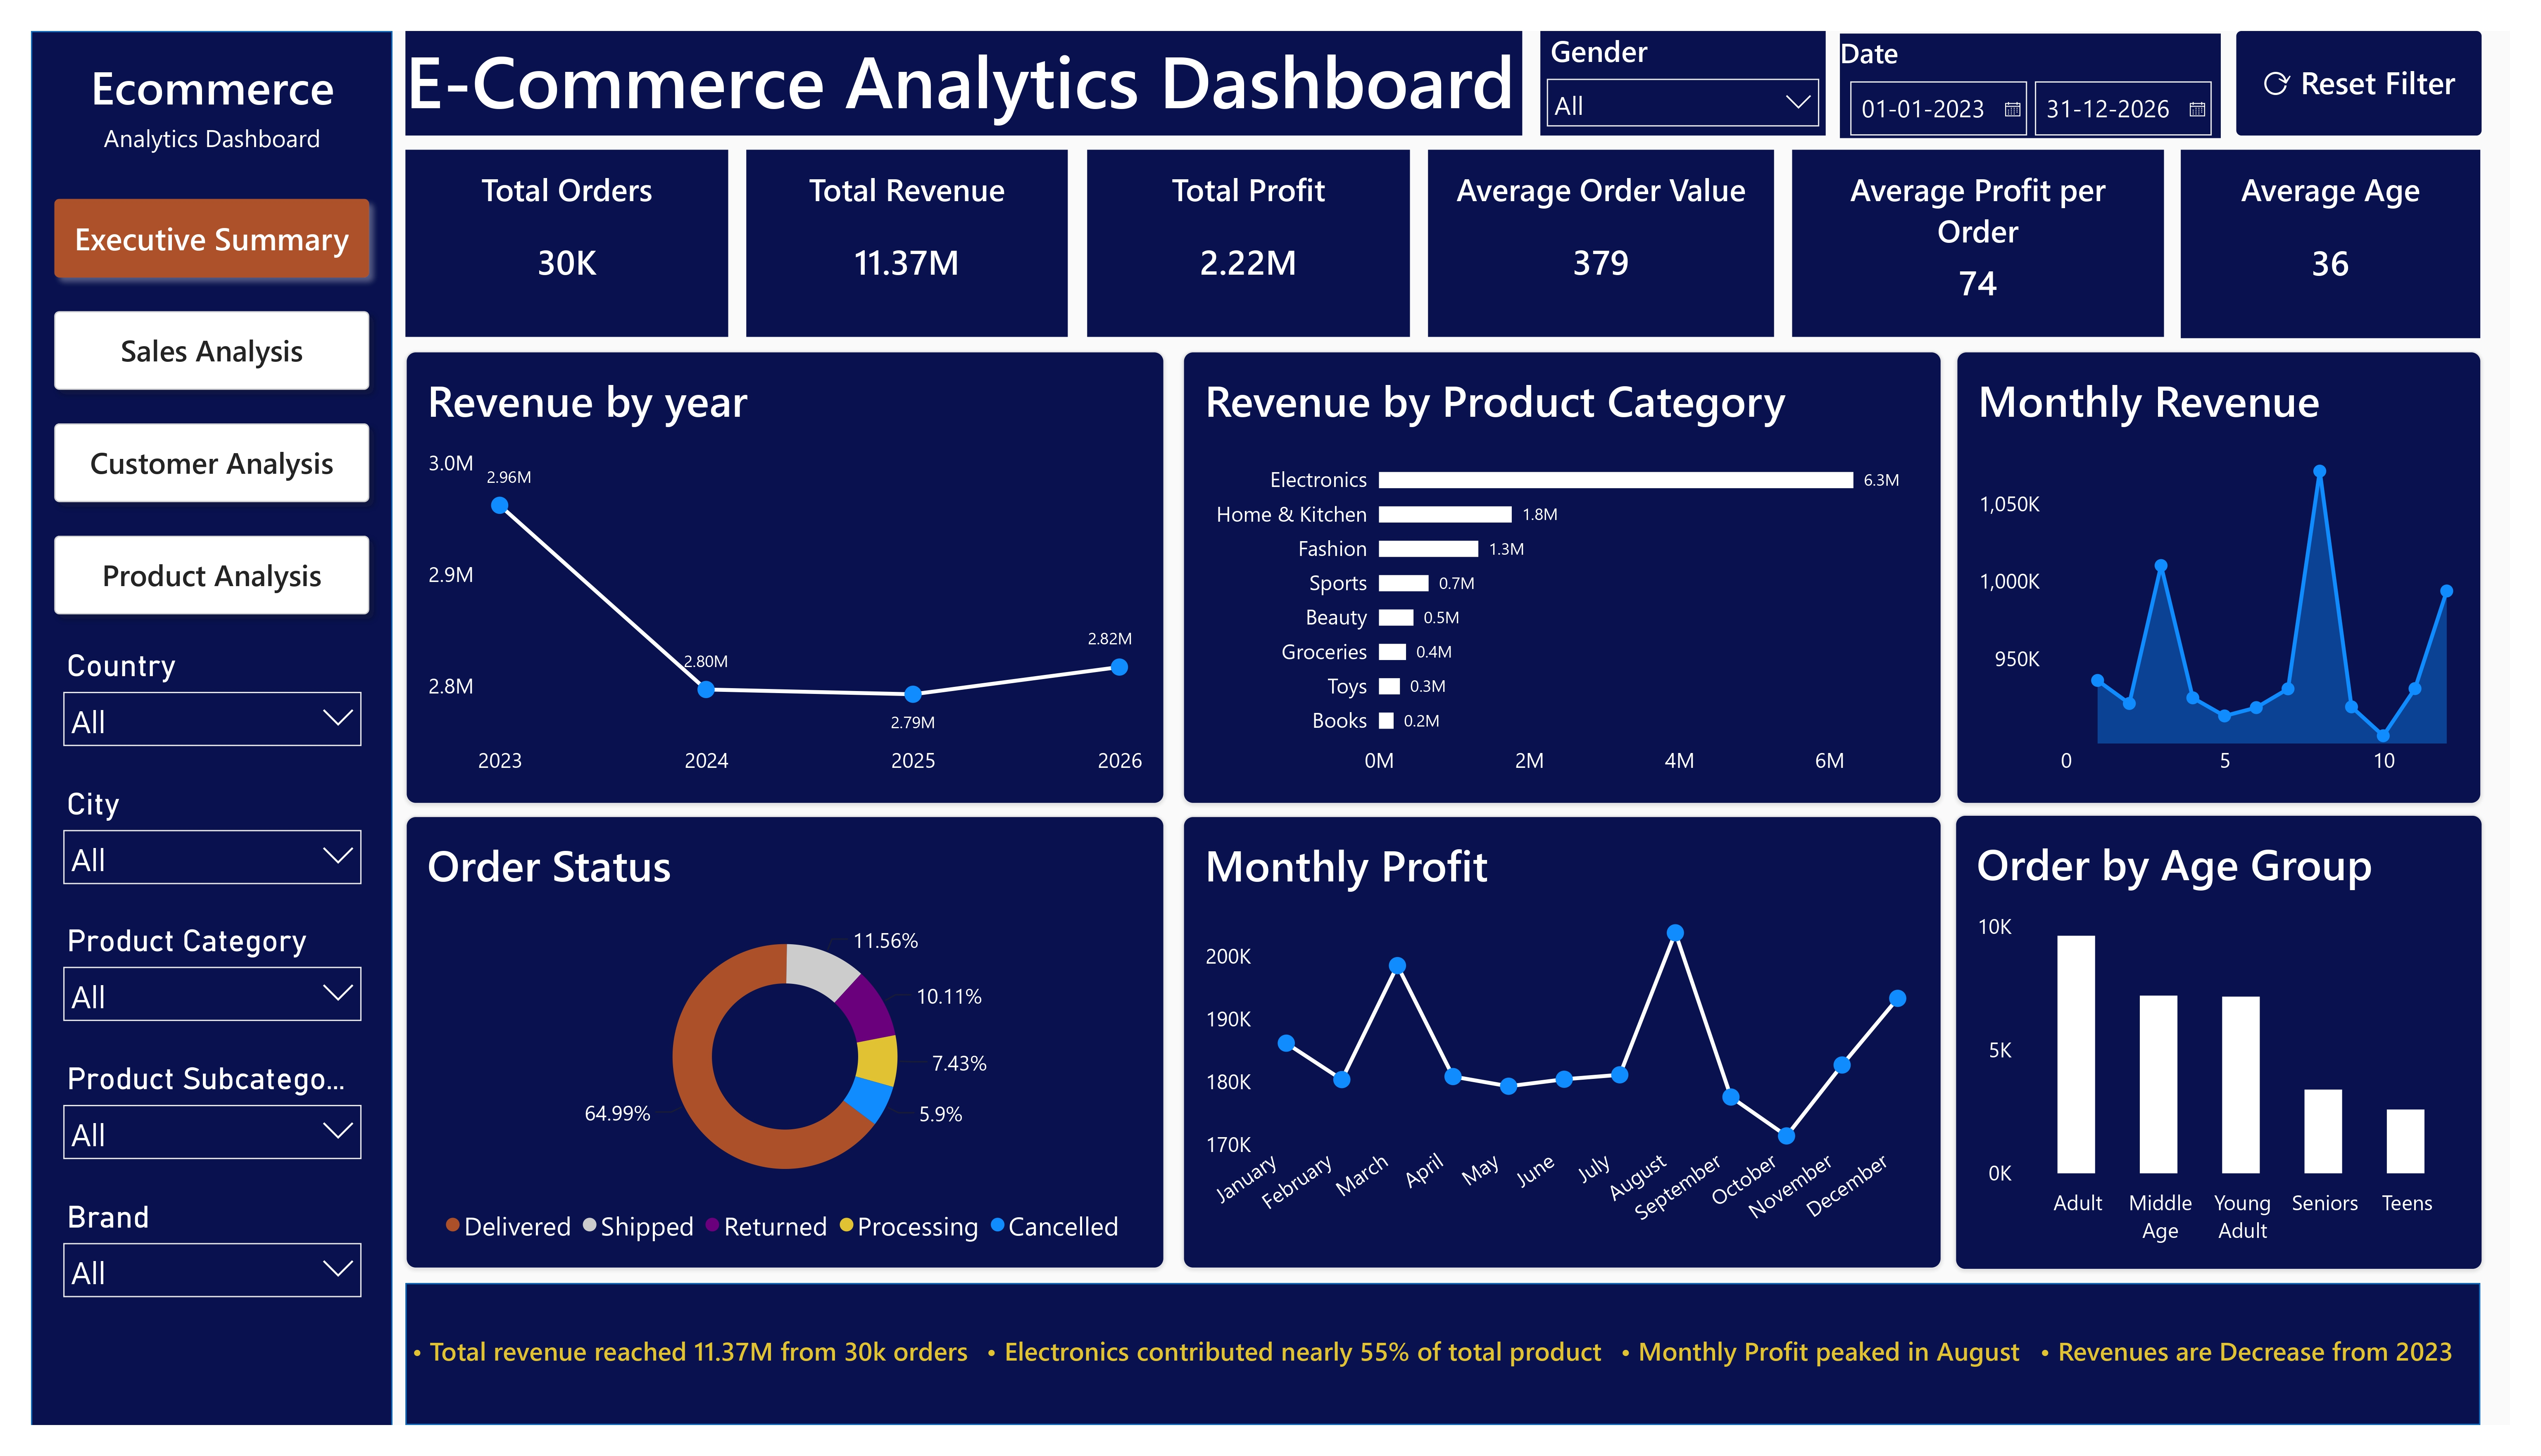

The dashboard page shown, as its layout file describes it:
{"tool":"powerbi","page":{"name":"Executive Summary","canvas":[1920,1080],"ordinal":0},"visuals":[{"type":"shape","box":[0,0,279.9,1080.6],"z":0},{"type":"textbox","title":"Ecommerce","box":[19.9,18.1,240.7,86.9],"z":1000},{"type":"pageNavigator","box":[9,121.2,262.4,340.2],"z":2000},{"type":"textbox","title":"E-Commerce Analytics Dashboard","box":[289.5,0,865,81.4],"z":3000},{"type":"slicer","fields":{"Values":["Ecommerce_DB.Country"]},"box":[19.9,477.8,240.7,92.3],"z":4000},{"type":"slicer","fields":{"Values":["Ecommerce_DB.City"]},"box":[19.9,584.5,240.7,92.3],"z":5000},{"type":"slicer","fields":{"Values":["Ecommerce_DB.Product_Category"]},"box":[19.9,691.3,240.7,92.3],"z":6000},{"type":"slicer","fields":{"Values":["Ecommerce_DB.Product_Subcategory"]},"box":[19.9,798.1,240.7,92.3],"z":7000},{"type":"slicer","fields":{"Values":["Ecommerce_DB.Brand"]},"box":[19.9,904.8,240.7,92.3],"z":8000},{"type":"slicer","fields":{"Values":["Ecommerce_DB.Customer_Gender"]},"box":[1169,0,220.8,81.4],"z":9000},{"type":"slicer","title":"Date","fields":{"Values":["Ecommerce_DB.Order_Date"]},"box":[1400.7,1.8,295,81.4],"z":10000},{"type":"card","title":"Total Orders","fields":{"Values":["Table.Total_Orders"]},"box":[289.5,92.3,250,144.8],"z":11000},{"type":"card","title":"Total Revenue","fields":{"Values":["Table.Total_Revenue"]},"box":[553.8,92.3,249.7,144.8],"z":12000},{"type":"card","title":"Total Profit","fields":{"Values":["Table.Total_Profit"]},"box":[818,92.3,249.7,144.8],"z":13000},{"type":"card","title":"Average Order Value","fields":{"Values":["Table.Average_Revnue"]},"box":[1082.2,92.3,267.8,144.8],"z":14000},{"type":"card","title":"Average Profit per Order","fields":{"Values":["Table.Average_Profit"]},"box":[1364.5,92.3,287.7,144.8],"z":15000},{"type":"card","title":"Average Age","fields":{"Values":["Avg(Ecommerce_DB.Customer_Age)"]},"box":[1665.4,91.8,231.7,146.1],"z":16000},{"type":"lineChart","title":"Revenue by year","fields":{"Category":["Ecommerce_DB.Order_Date.Variation.Date Hierarchy.Year"],"Y":["Sum(Ecommerce_DB.Order_Amount)"]},"box":[289.5,247.9,588.1,351.1],"z":17000},{"type":"barChart","title":"Revenue by Product Category","fields":{"Category":["Ecommerce_DB.Product_Category"],"Y":["Sum(Ecommerce_DB.Order_Amount)"]},"box":[892.2,247.9,588.1,351.1],"z":18000},{"type":"donutChart","title":"Order Status","fields":{"Category":["Ecommerce_DB.Order_Status"],"Y":["CountNonNull(Ecommerce_DB.Product_ID)"]},"box":[289.5,608,588.1,351.1],"z":19000},{"type":"lineChart","title":"Monthly Profit","fields":{"Category":["Ecommerce_DB.Order_Date.Variation.Date Hierarchy.Month"],"Y":["Sum(Ecommerce_DB.Profit_Amount)"]},"box":[892.2,608,588.1,351.1],"z":20000},{"type":"stackedAreaChart","title":"Monthly Revenue","fields":{"Category":["Ecommerce_DB.Month"],"Y":["Sum(Ecommerce_DB.Order_Amount)"]},"box":[1491.2,247.9,407.2,351.1],"z":21000},{"type":"columnChart","title":" Order by Age Group","fields":{"Category":["Ecommerce_DB.Age_Group"],"Y":["CountNonNull(Ecommerce_DB.Order_ID)"]},"box":[1490.1,607.3,409,352.7],"z":22000},{"type":"shape","title":"Executive Insights","box":[289.5,970,1607,110.4],"z":23000},{"type":"textbox","title":"• Total revenue reached 11.37M  from 30k orders","box":[295,1008,441.6,36.2],"z":24000},{"type":"textbox","title":"• Revenues are Decrease from 2023","box":[1556.3,1008,329.4,36.2],"z":25000},{"type":"textbox","title":"• Electronics contributed nearly 55% of total product revenue.","box":[740.2,1008,477.8,36.2],"z":26000},{"type":"textbox","title":"• Monthly Profit peaked in August","box":[1230.6,1008,313.1,36.2],"z":27000},{"type":"actionButton","box":[1708.3,0,190,81.4],"z":28000}]}

Visuals, with their boxes on the page's 1920x1080 design canvas (x1, y1, x2, y2). These are canvas units, not pixel positions in the 2541x1456 screenshot, which may show the page scaled, cropped or inside an application window:
shape: left=0, top=0, right=280, bottom=1081
"Ecommerce" textbox: left=20, top=18, right=261, bottom=105
pageNavigator: left=9, top=121, right=271, bottom=461
"E-Commerce Analytics Dashboard" textbox: left=290, top=0, right=1154, bottom=81
slicer - Ecommerce_DB.Country: left=20, top=478, right=261, bottom=570
slicer - Ecommerce_DB.City: left=20, top=584, right=261, bottom=677
slicer - Ecommerce_DB.Product_Category: left=20, top=691, right=261, bottom=784
slicer - Ecommerce_DB.Product_Subcategory: left=20, top=798, right=261, bottom=890
slicer - Ecommerce_DB.Brand: left=20, top=905, right=261, bottom=997
slicer - Ecommerce_DB.Customer_Gender: left=1169, top=0, right=1390, bottom=81
"Date" slicer: left=1401, top=2, right=1696, bottom=83
"Total Orders" card: left=290, top=92, right=540, bottom=237
"Total Revenue" card: left=554, top=92, right=804, bottom=237
"Total Profit" card: left=818, top=92, right=1068, bottom=237
"Average Order Value" card: left=1082, top=92, right=1350, bottom=237
"Average Profit per Order" card: left=1364, top=92, right=1652, bottom=237
"Average Age" card: left=1665, top=92, right=1897, bottom=238
"Revenue by year" lineChart: left=290, top=248, right=878, bottom=599
"Revenue by Product Category" barChart: left=892, top=248, right=1480, bottom=599
"Order Status" donutChart: left=290, top=608, right=878, bottom=959
"Monthly Profit" lineChart: left=892, top=608, right=1480, bottom=959
"Monthly Revenue" stackedAreaChart: left=1491, top=248, right=1898, bottom=599
" Order by Age Group" columnChart: left=1490, top=607, right=1899, bottom=960
"Executive Insights" shape: left=290, top=970, right=1896, bottom=1080
"• Total revenue reached 11.37M  from 30k orders" textbox: left=295, top=1008, right=737, bottom=1044
"• Revenues are Decrease from 2023" textbox: left=1556, top=1008, right=1886, bottom=1044
"• Electronics contributed nearly 55% of total product revenue." textbox: left=740, top=1008, right=1218, bottom=1044
"• Monthly Profit peaked in August" textbox: left=1231, top=1008, right=1544, bottom=1044
actionButton: left=1708, top=0, right=1898, bottom=81
